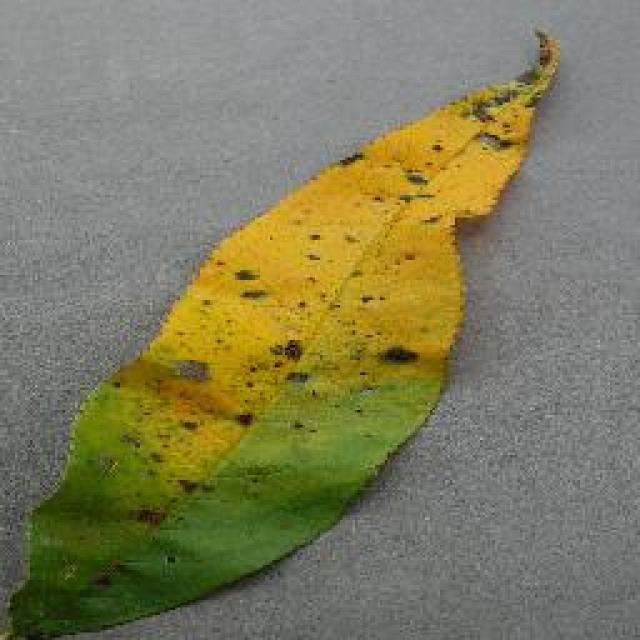Bacterial_spot: (93, 12, 567, 474)
